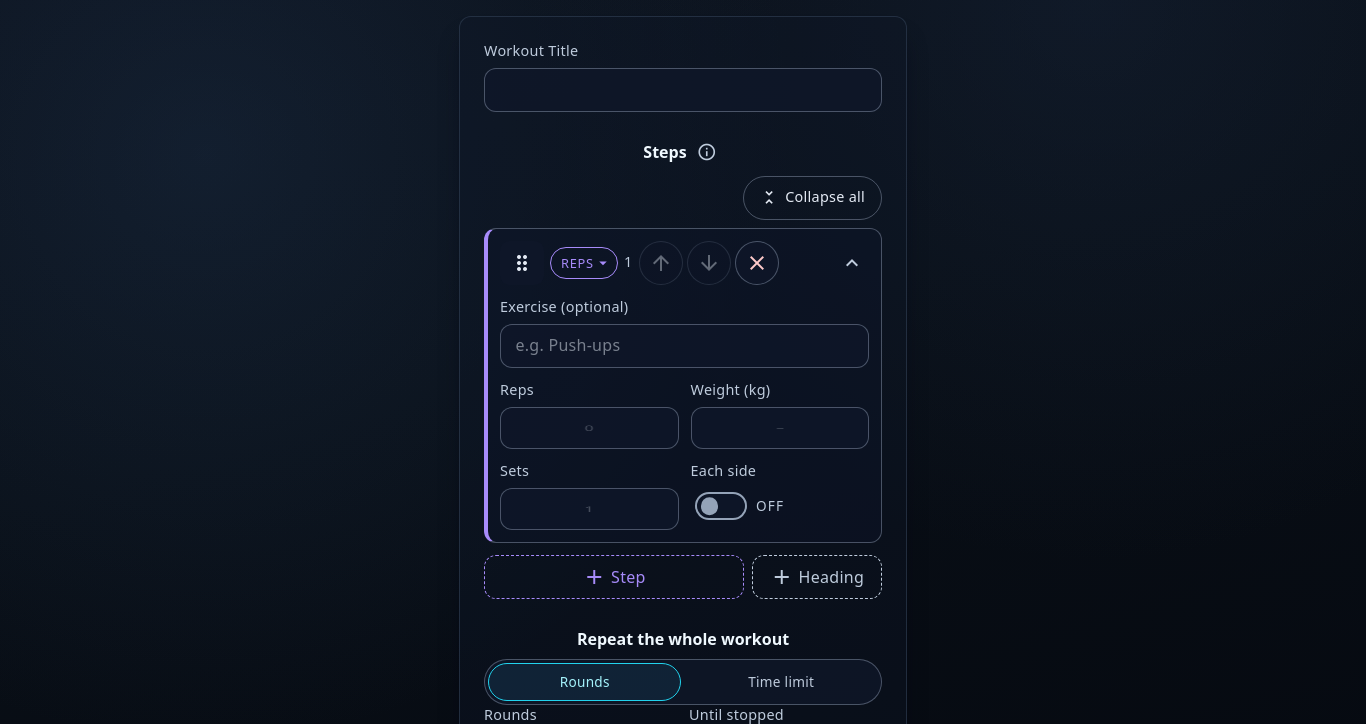
WorkoutSetupComponent › creating a workout › starts with one open rep step, and nothing to start
Step 1. Click the button with class "step__kind-button" → {"x": 584, "y": 263}, box top-left (550, 247), bottom-right (618, 279)
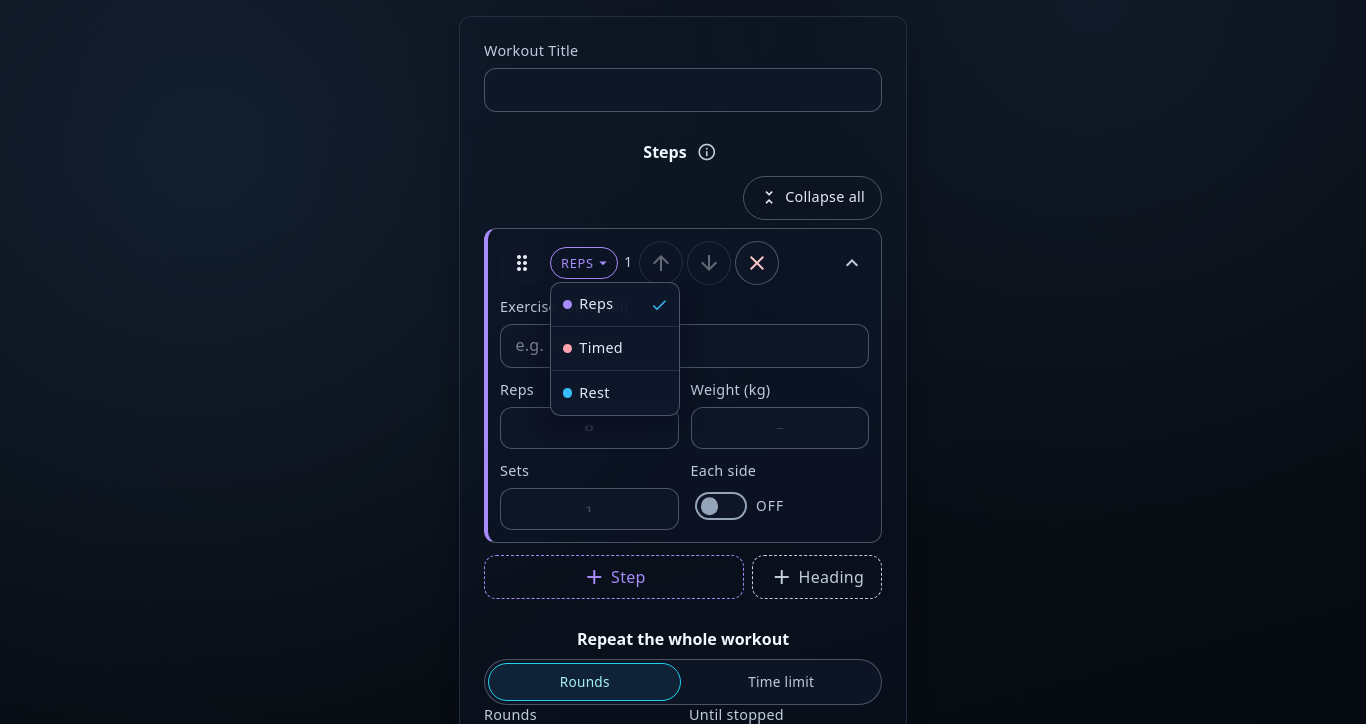
Result: the button "Timed" is shown
Step 2. Click the button "Timed" → {"x": 615, "y": 349}, box top-left (551, 327), bottom-right (679, 371)
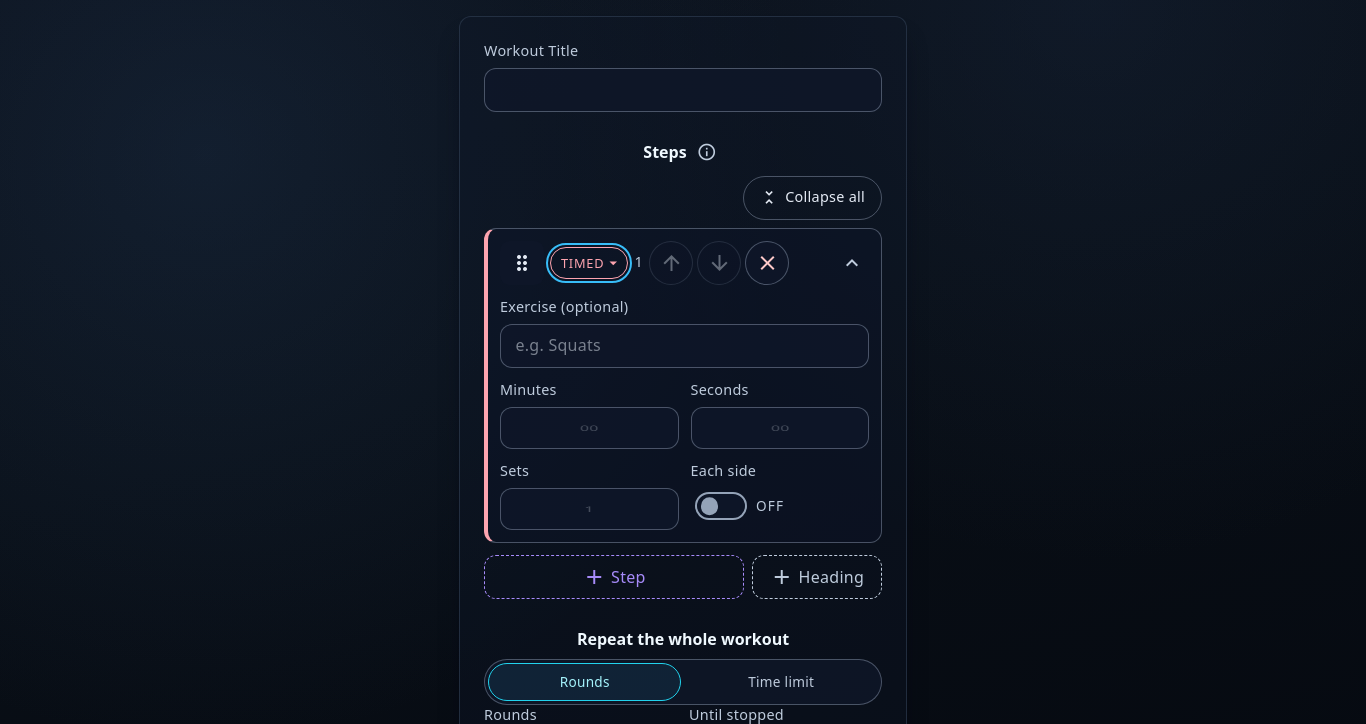
Step 3. Click the button "Step" → {"x": 614, "y": 577}, box top-left (484, 555), bottom-right (744, 599)
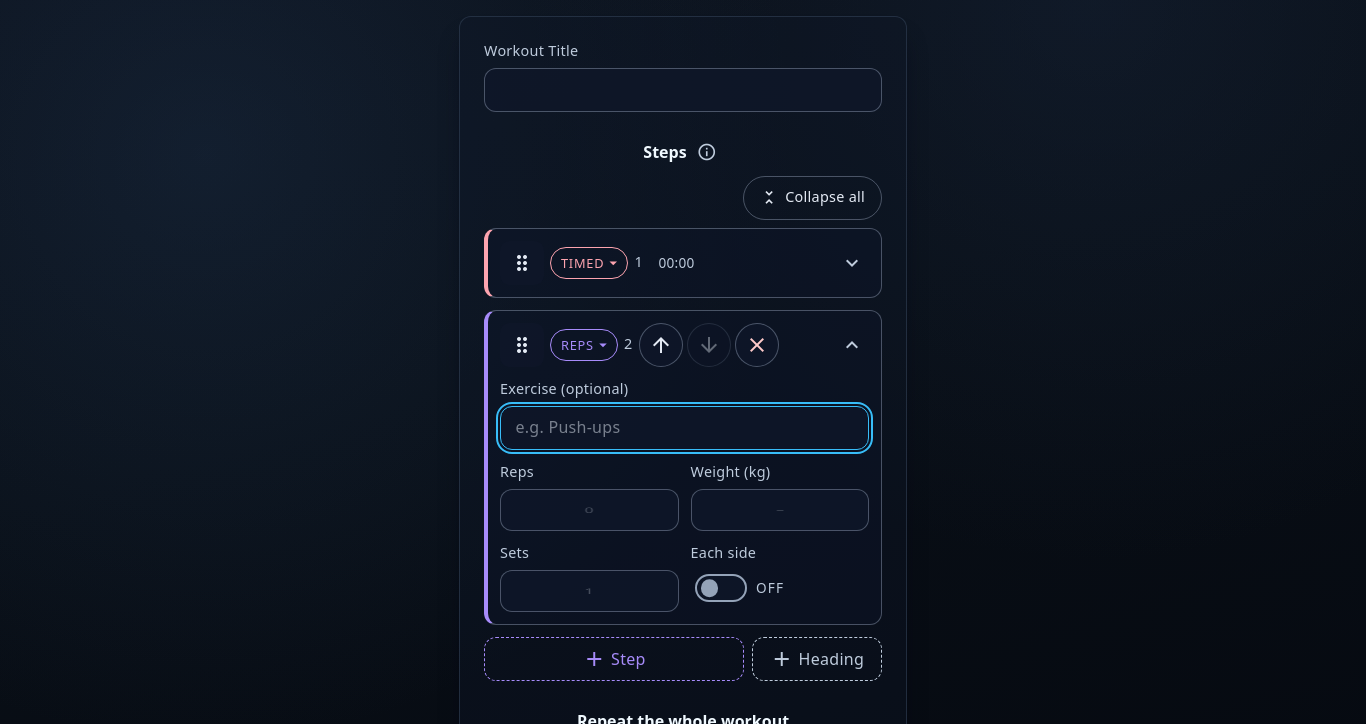
Step 4. Click the button with class "step__kind-button" showing "Reps" → {"x": 584, "y": 345}, box top-left (550, 329), bottom-right (618, 361)
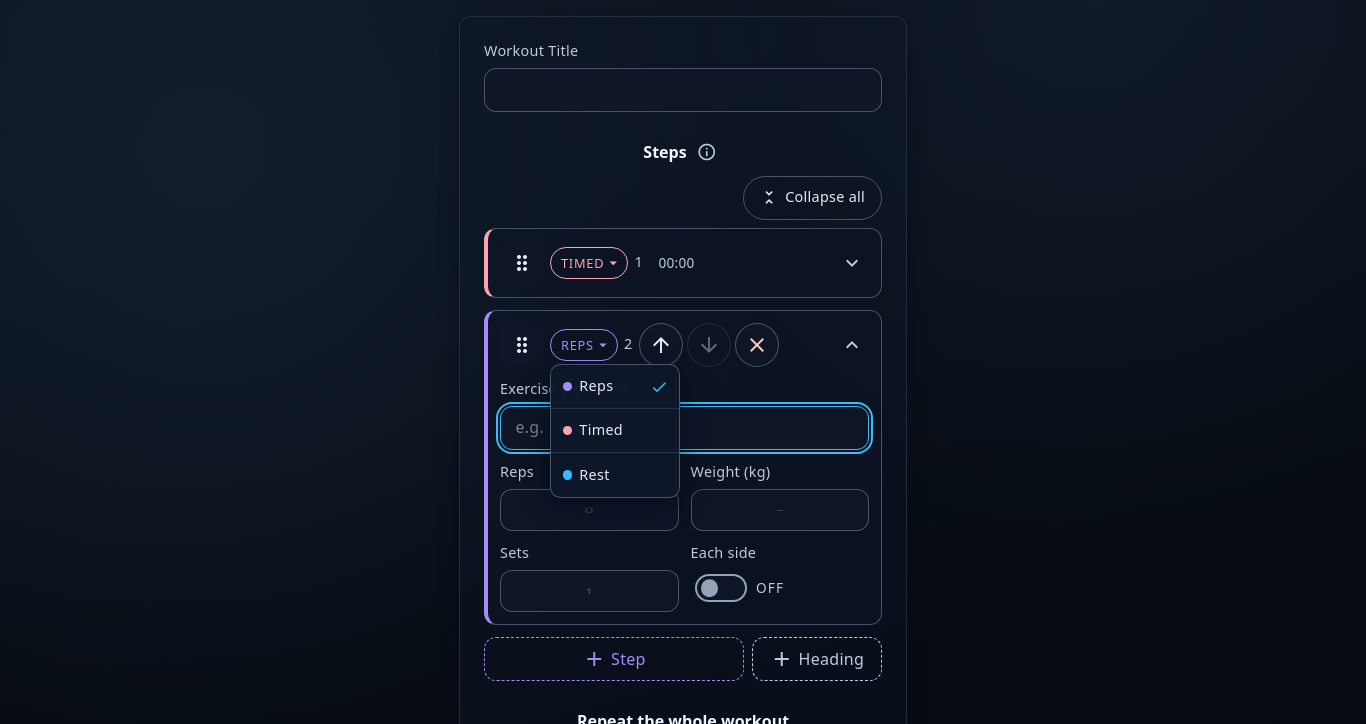
Result: the button "Rest" is shown
Step 5. Click the button "Rest" → {"x": 615, "y": 475}, box top-left (551, 453), bottom-right (679, 497)
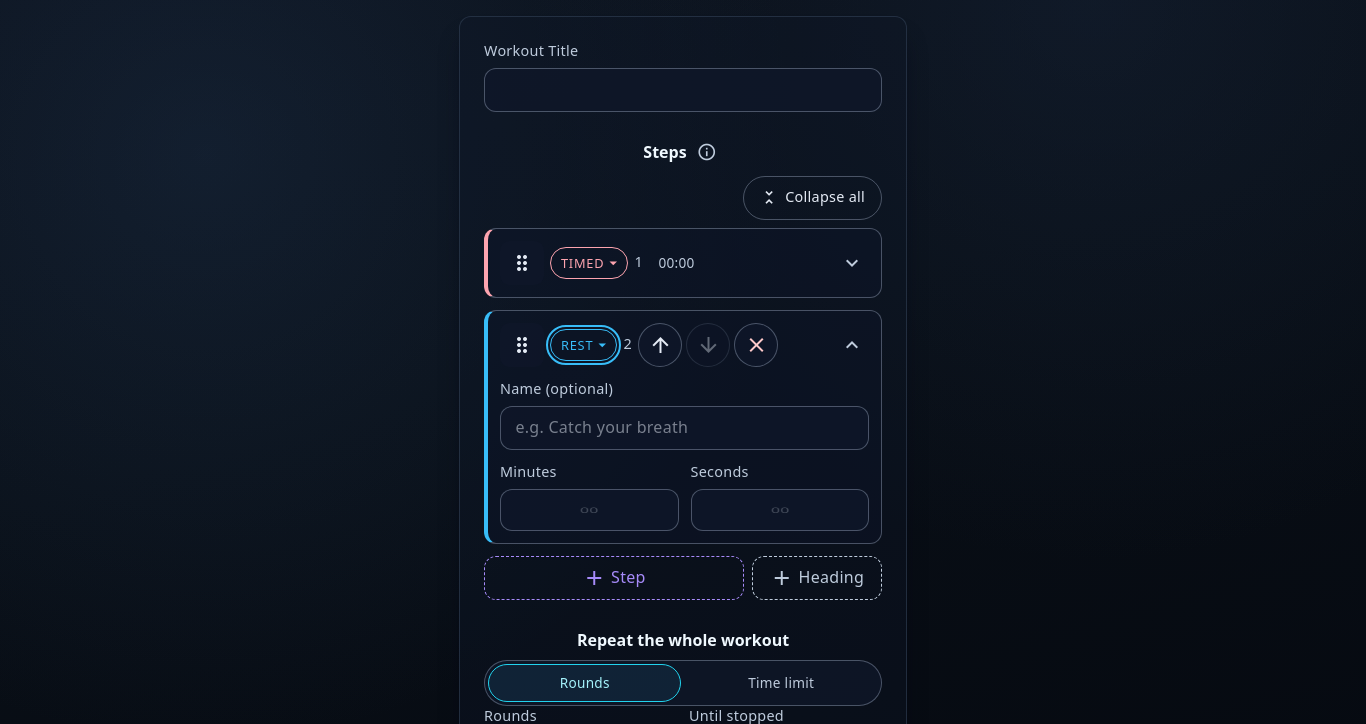
Step 6. Click the button "00:00" → {"x": 759, "y": 263}, box top-left (650, 241), bottom-right (869, 285)
(page scrolled)
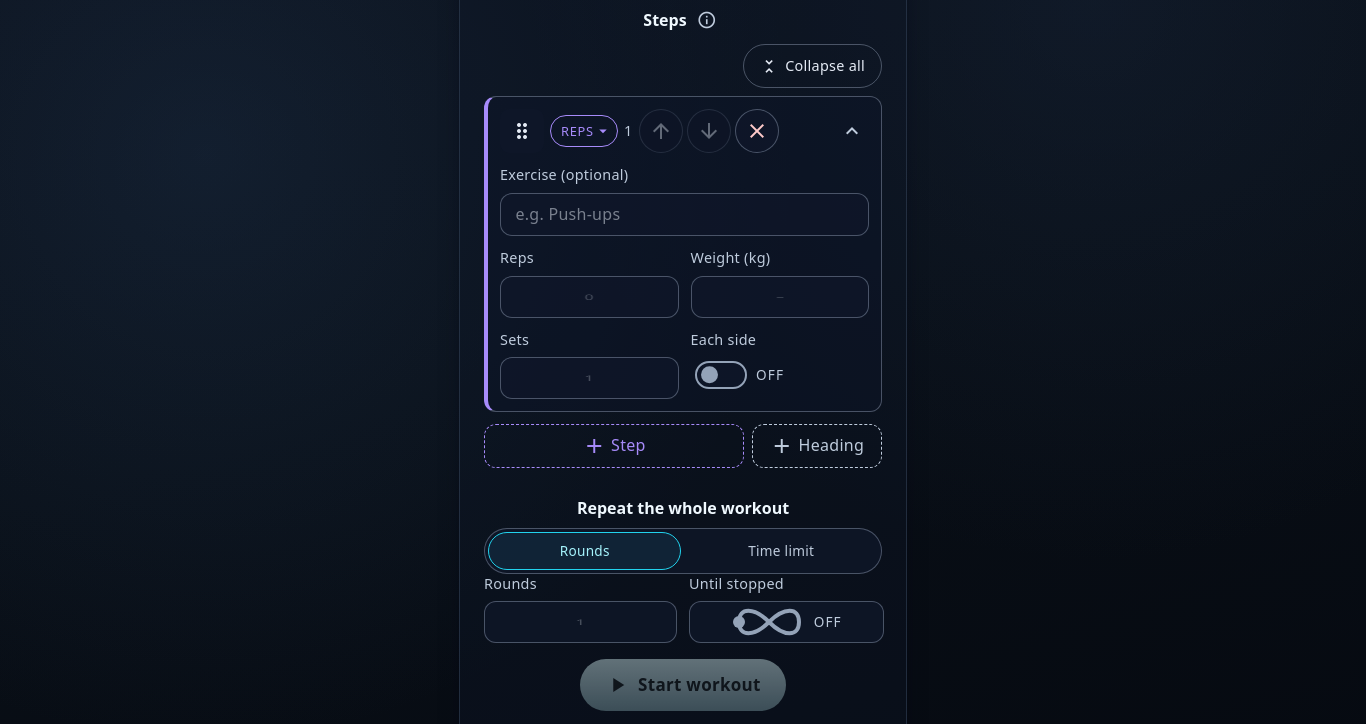
Result: the button "Step" is enabled at top-left (484, 424), bottom-right (744, 468)
Result: the button "Start workout" is disabled at top-left (580, 659), bottom-right (786, 711)
Result: the button "Start workout" is shown at top-left (580, 659), bottom-right (786, 711)
